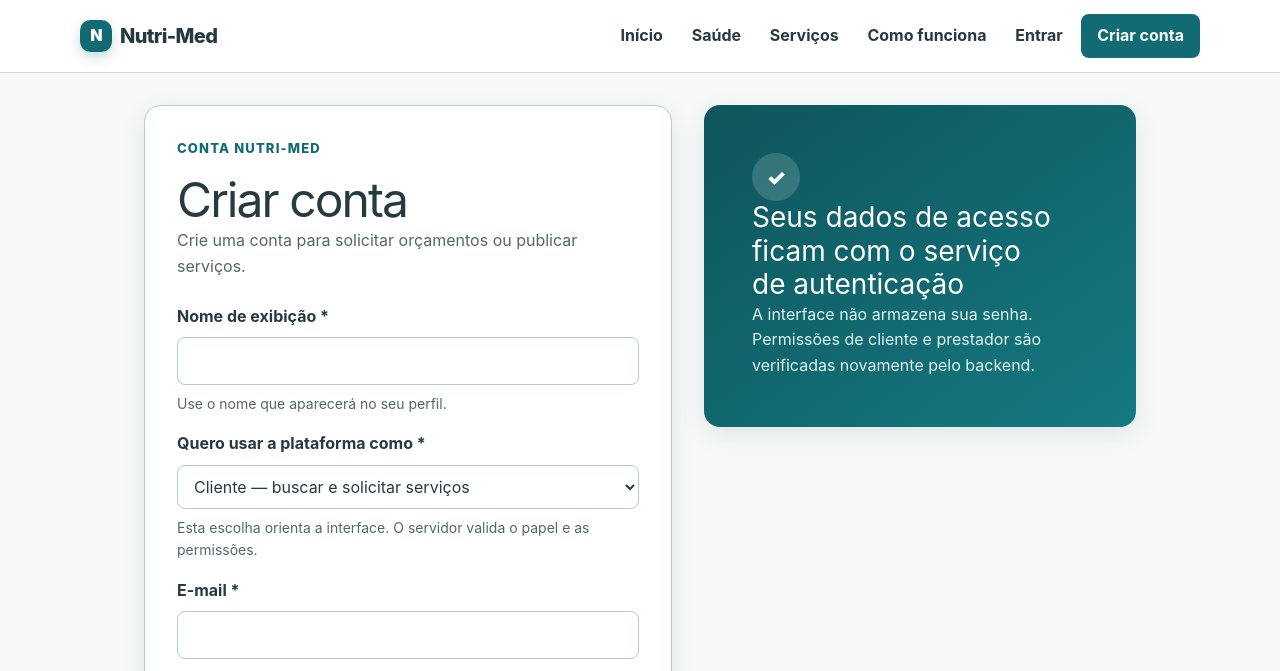
Test case: autenticação › trata confirmação de e-mail pendente e não armazena senha
Type "Pessoa Demo" into the field labelled "Nome de exibição *" at {"x": 408, "y": 361}, box [177,337,639,385]
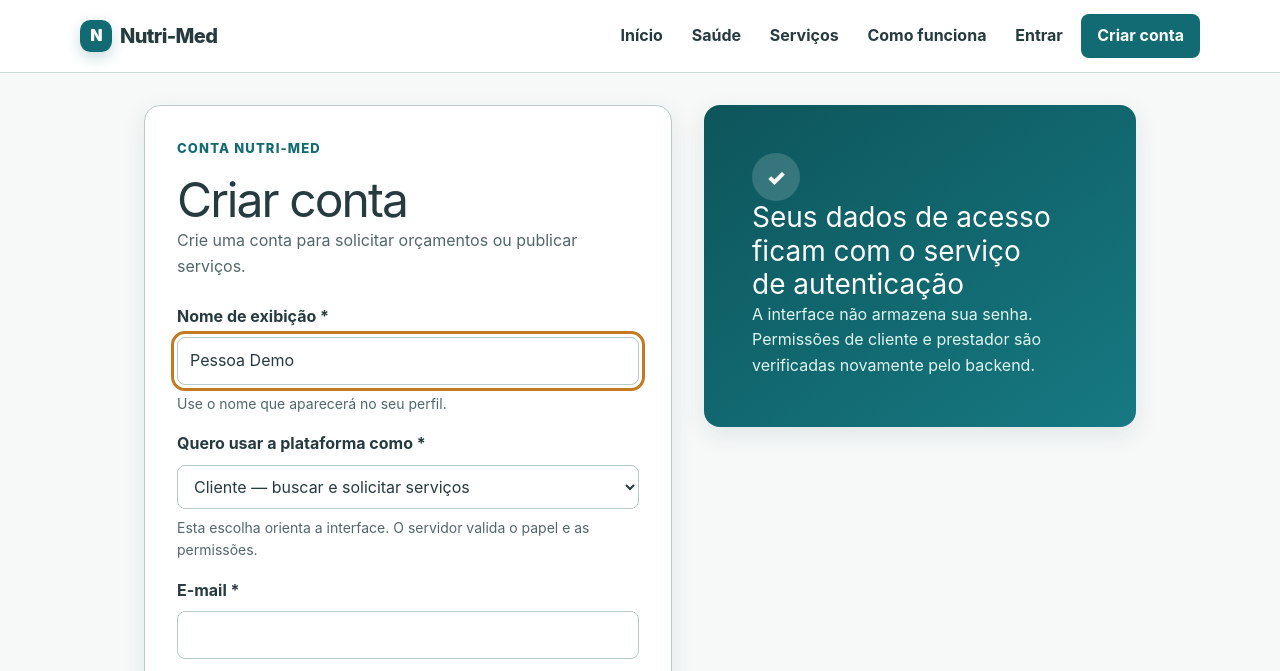
Type "pessoa@example.invalid" into the field labelled "E-mail *" at {"x": 408, "y": 635}, box [177,611,639,659]
(page scrolled)
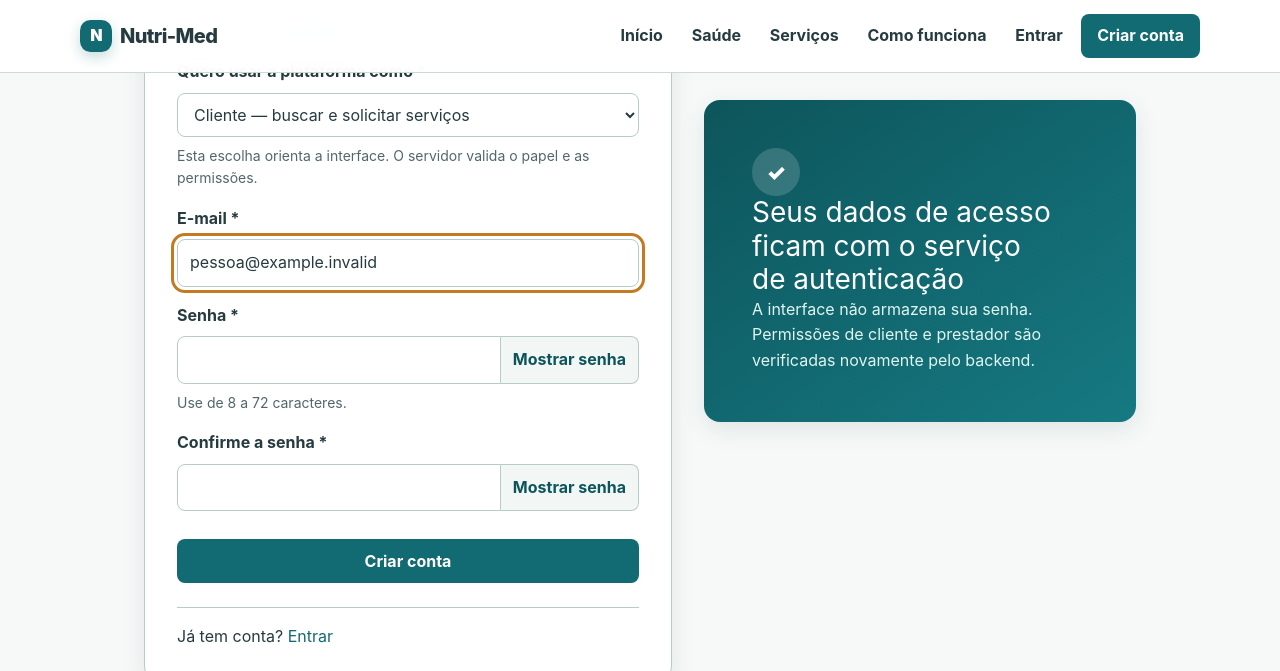
Type "Senha-demo-123" into the password field labelled "Senha *" at {"x": 339, "y": 360}, box [177,336,501,384]
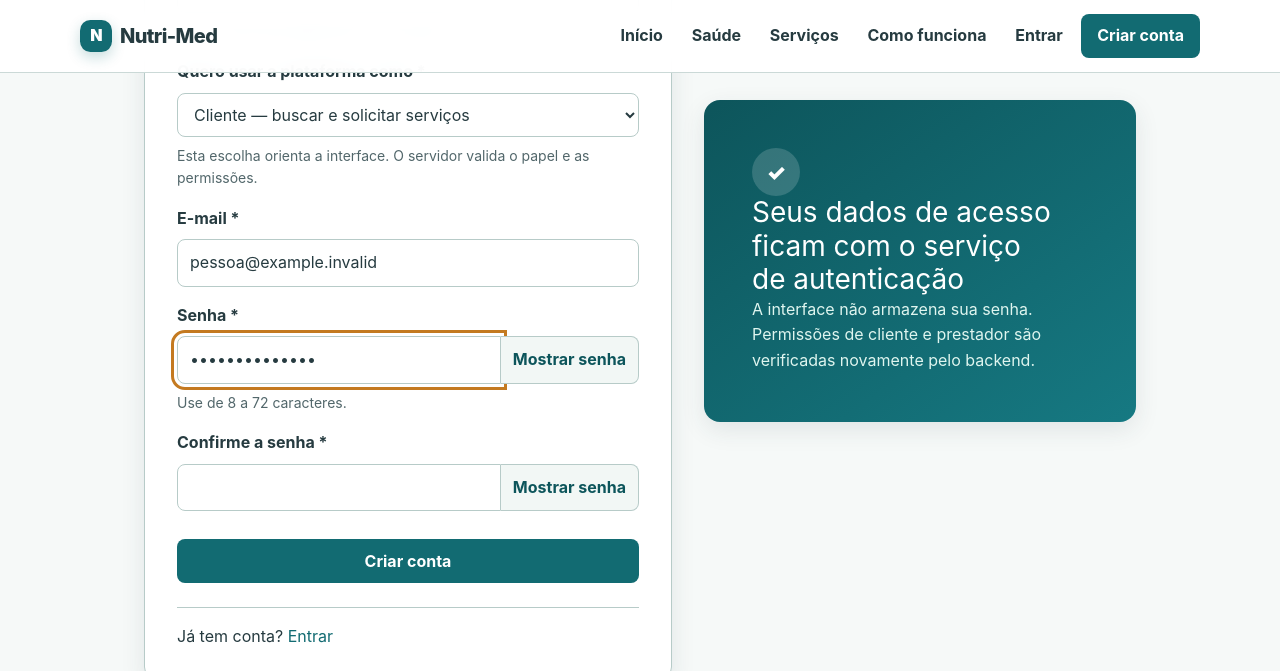
Type "Senha-demo-123" into the password field labelled "Confirme a senha *" at {"x": 339, "y": 488}, box [177,464,501,512]
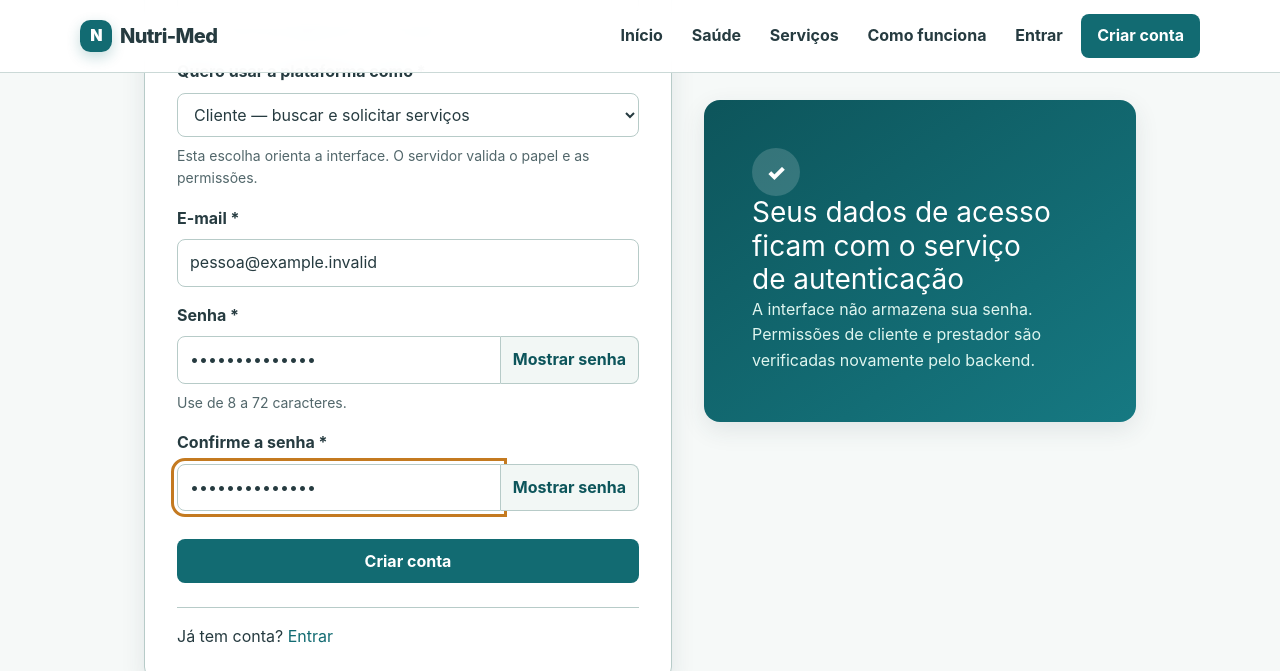
Click the button "Criar conta" at {"x": 408, "y": 562}, box [177,540,639,584]
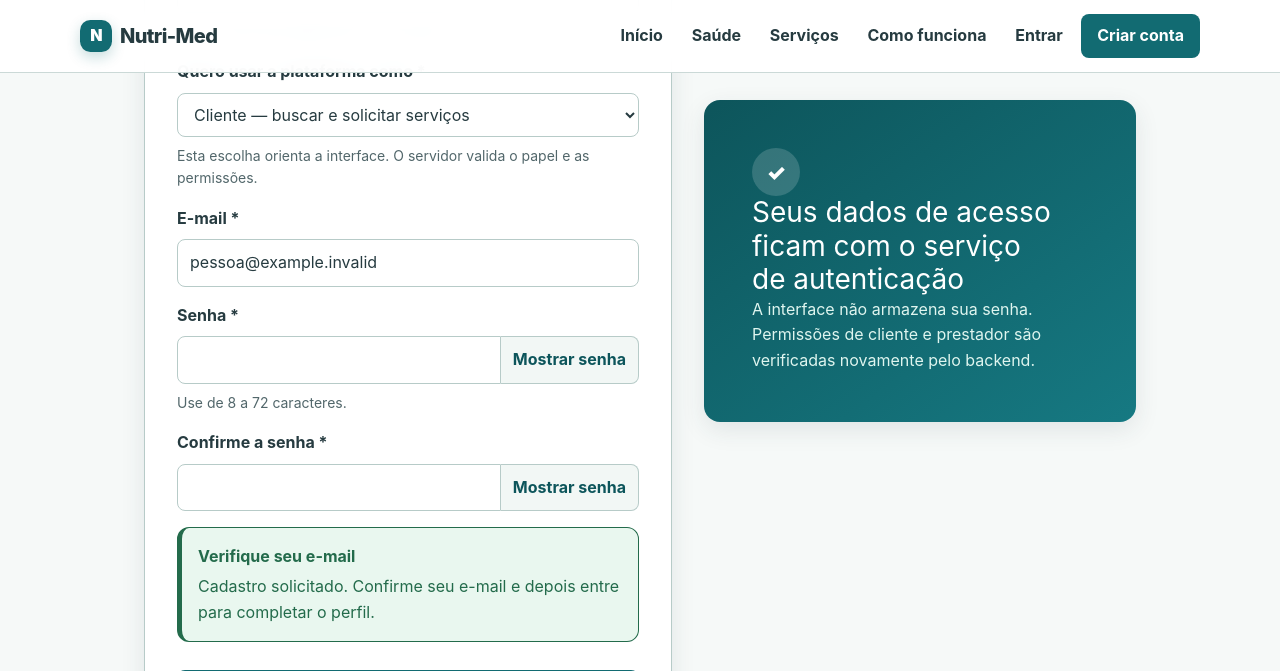
expect the text "Confirme seu e-mail" is shown: met, box [198,576,619,622]
